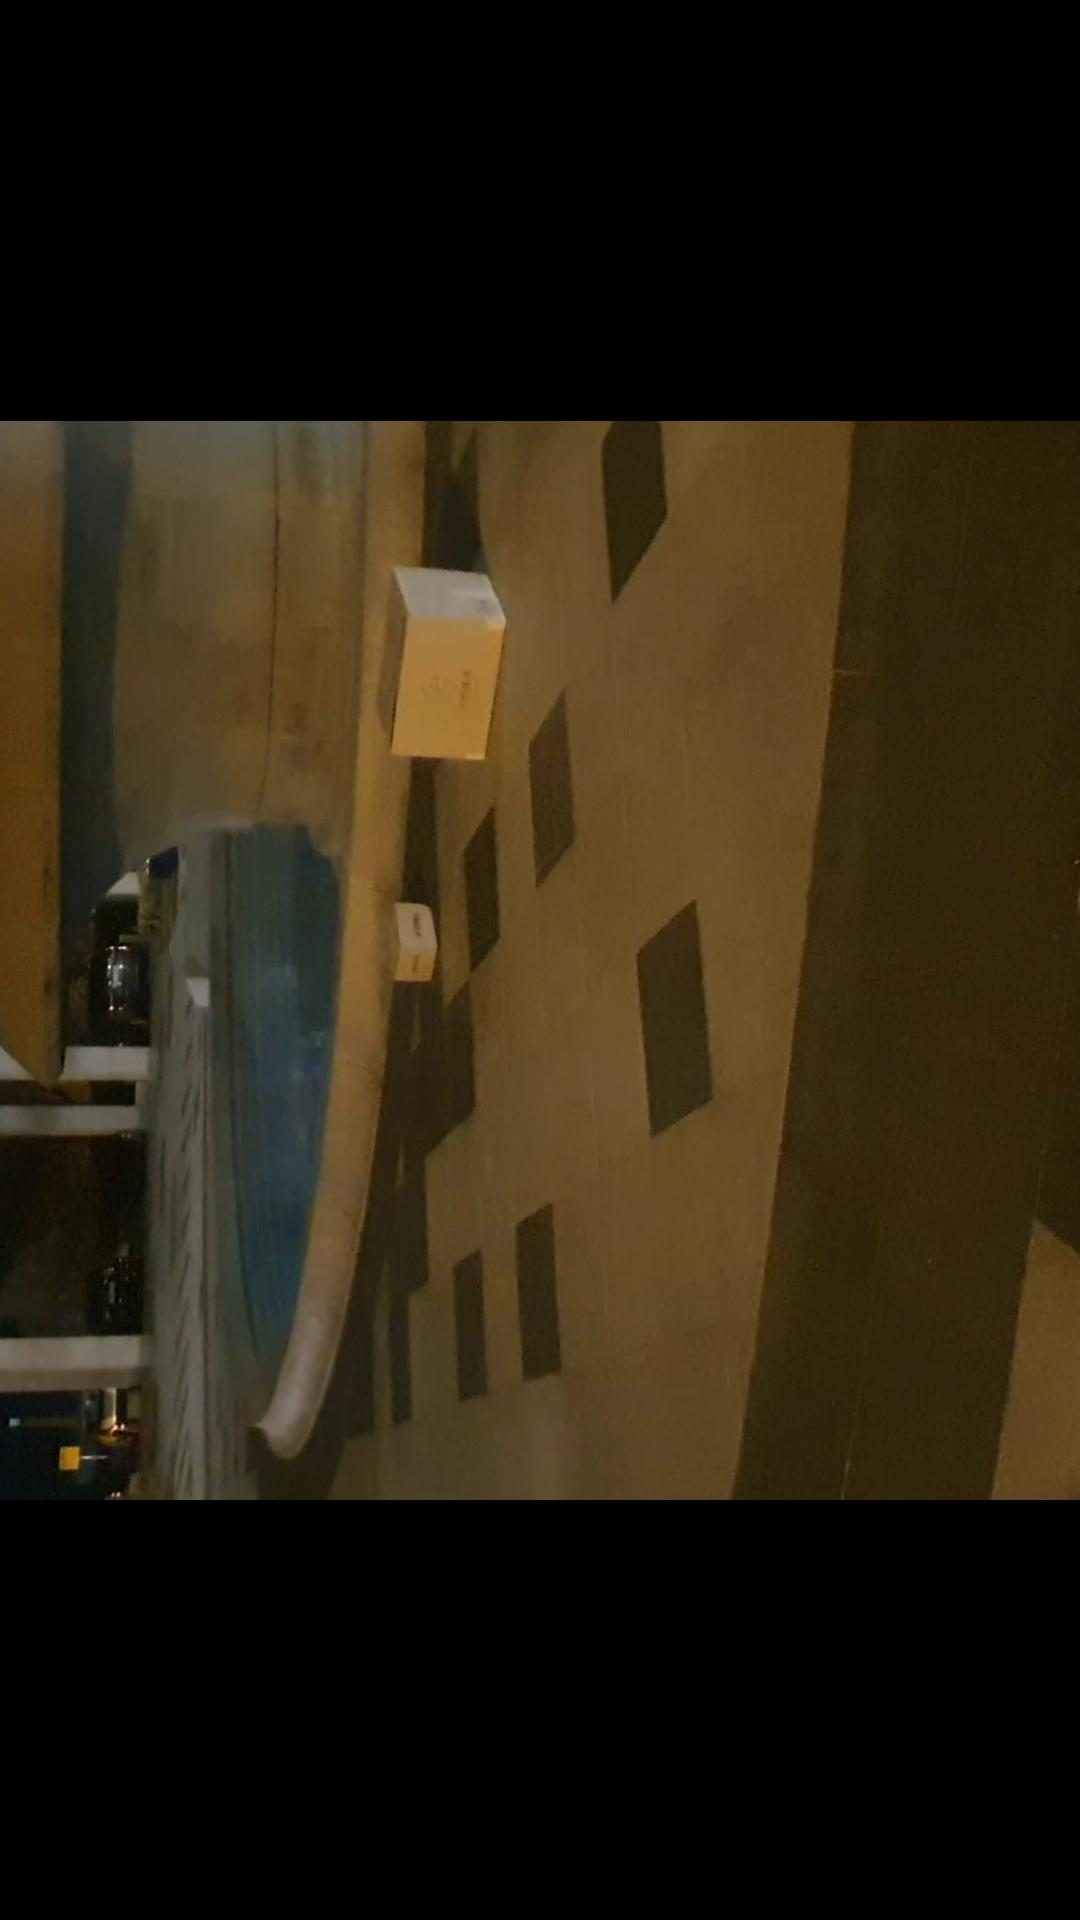Box: (368, 558, 508, 762), (373, 893, 440, 986)
